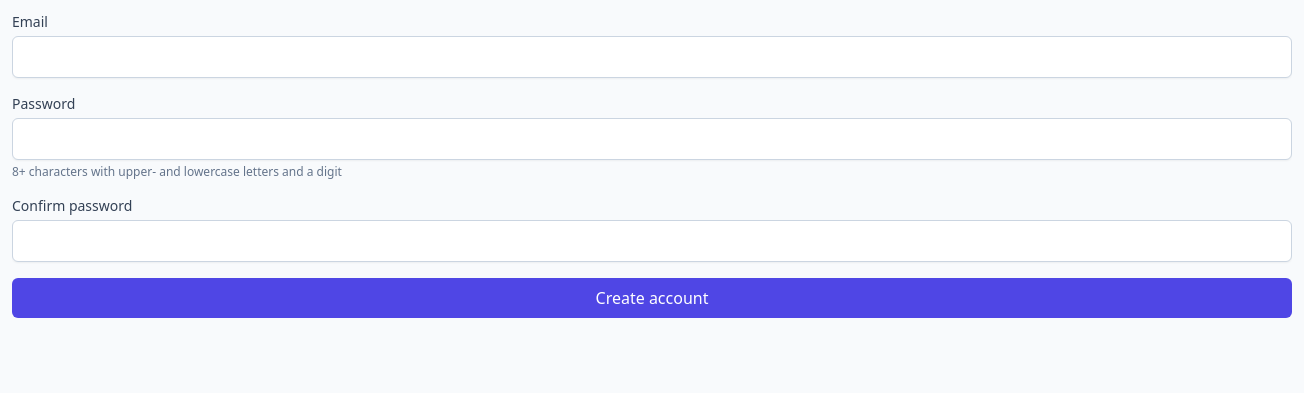
RegisterForm › shows backend error descriptions
The width and height of the screenshot is (1304, 393).
In the field labelled "Email": (652, 57) [12, 36, 1292, 78], type "bob@example.com"
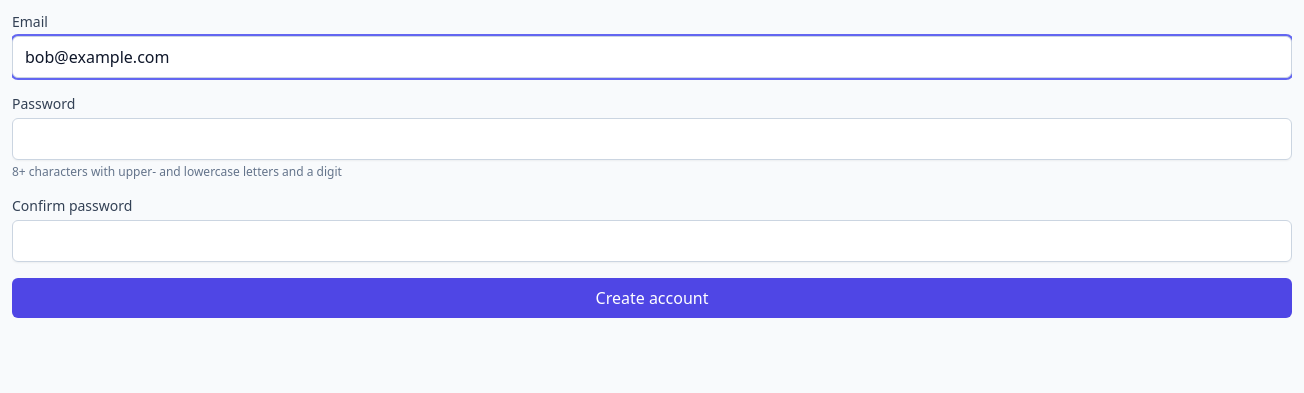
In the password field labelled "Password": (652, 139) [12, 118, 1292, 160], type "Secret123"
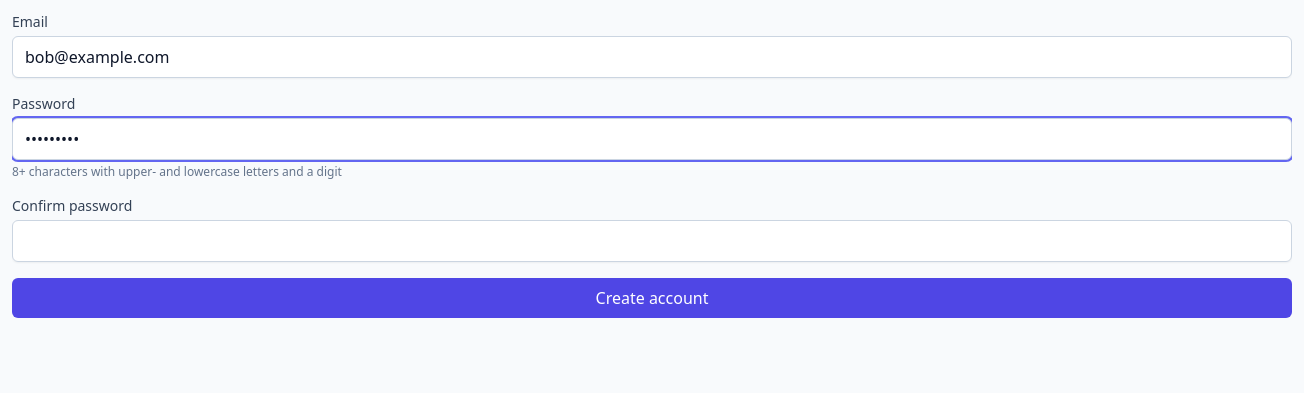
In the password field labelled "Confirm password": (652, 241) [12, 220, 1292, 262], type "Secret123"
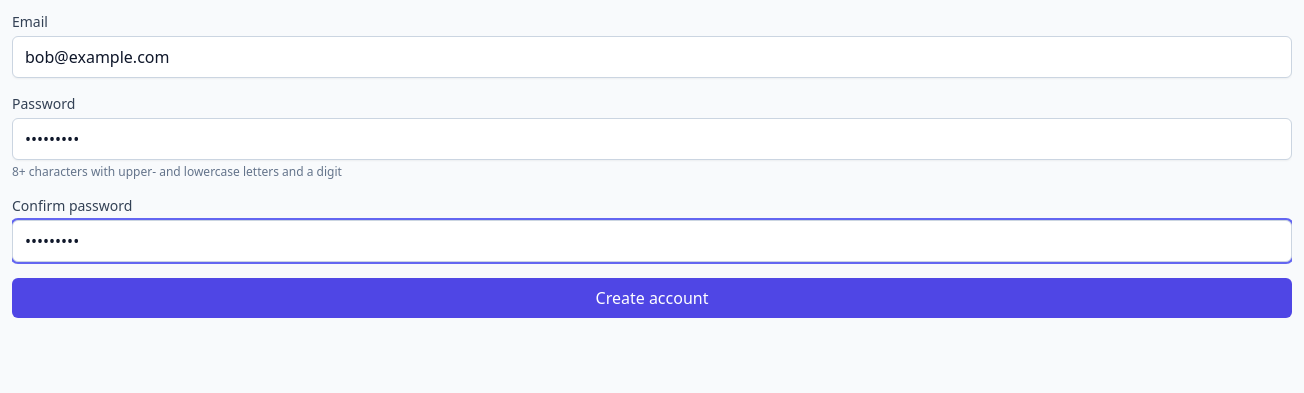
Click the button "Create account": (652, 298) [12, 278, 1292, 318]
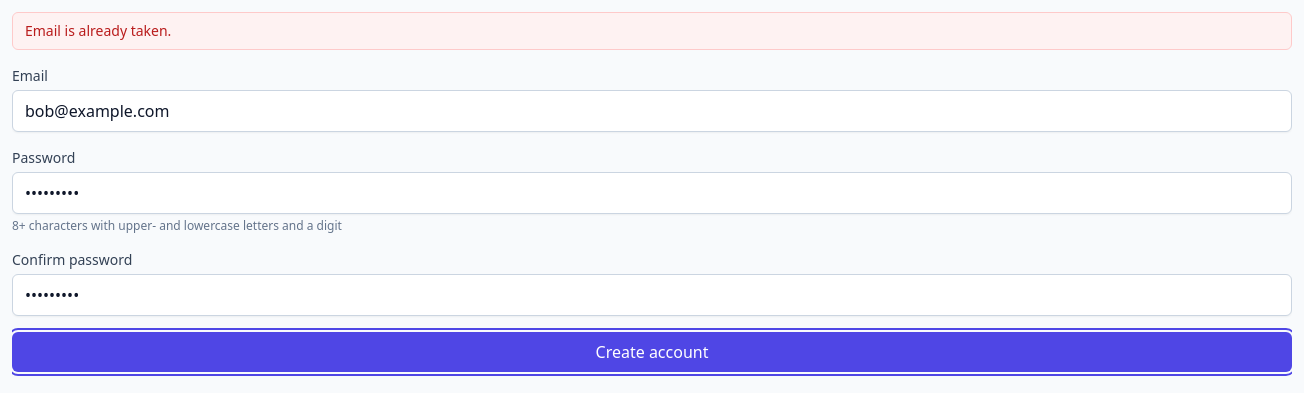
Check: the message reads "Email is already taken.", box [25, 21, 171, 40]
